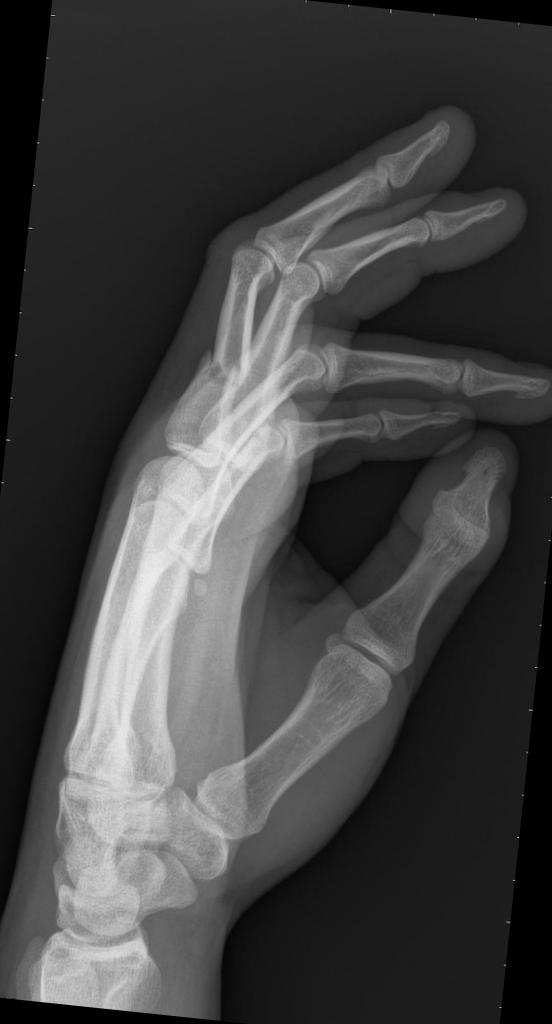fracture: (424, 487, 495, 556)
